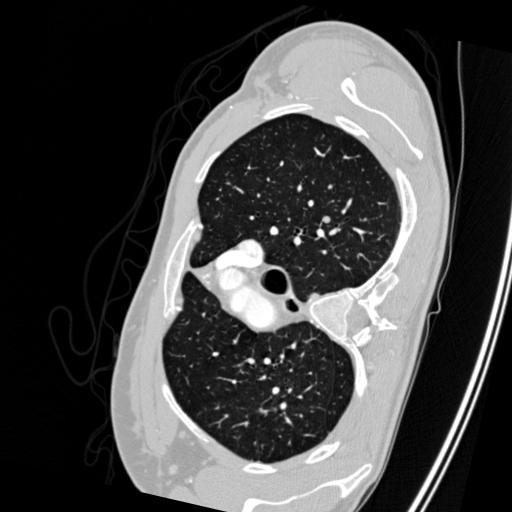nodule: (321, 212, 335, 226)
